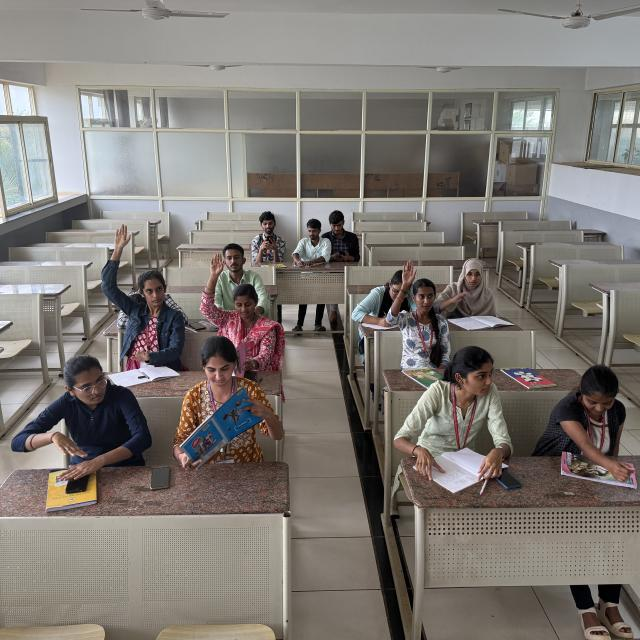Hand Rising: (99, 223, 177, 350), (200, 252, 272, 357), (388, 257, 449, 360)
Reading: (180, 337, 280, 461)
Using Phone: (322, 210, 362, 262), (248, 208, 284, 258)
Writing: (353, 270, 412, 332)
